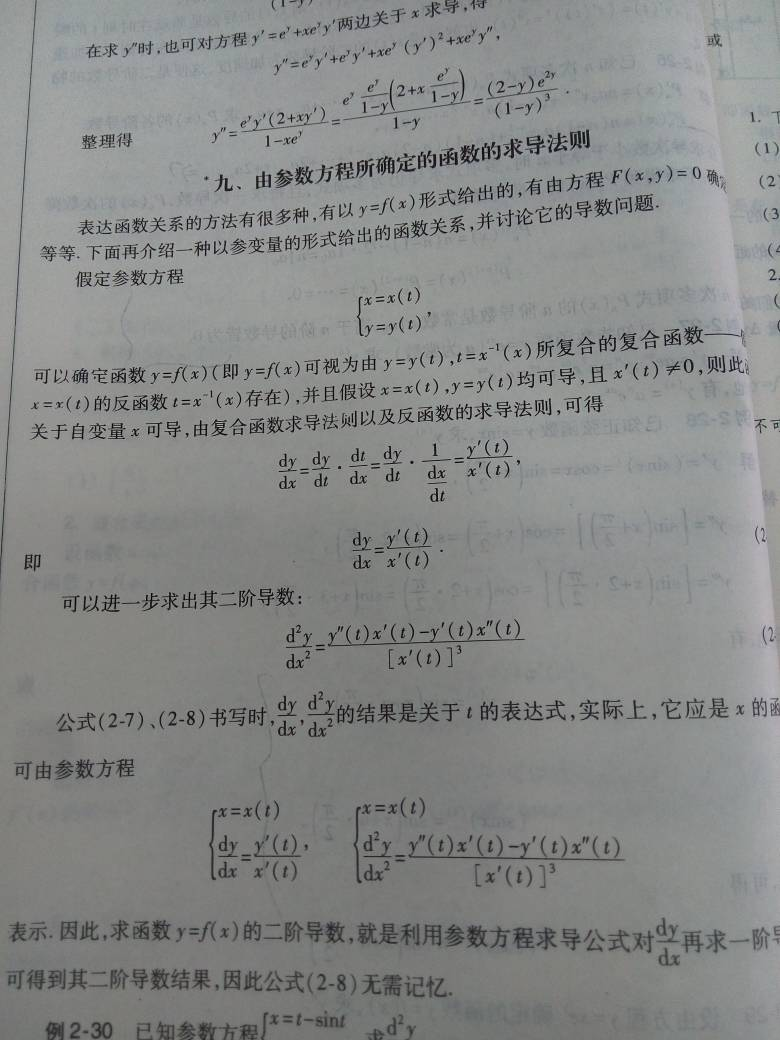cube: (548, 859, 562, 882), (453, 641, 468, 661)
